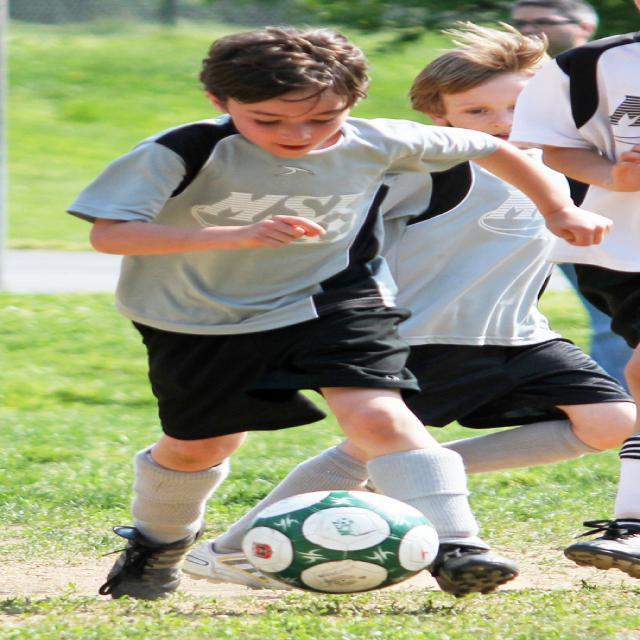football: (242, 486, 446, 598)
